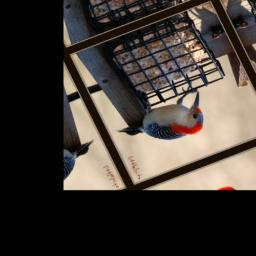Woodpecker: (107, 81, 215, 159)
